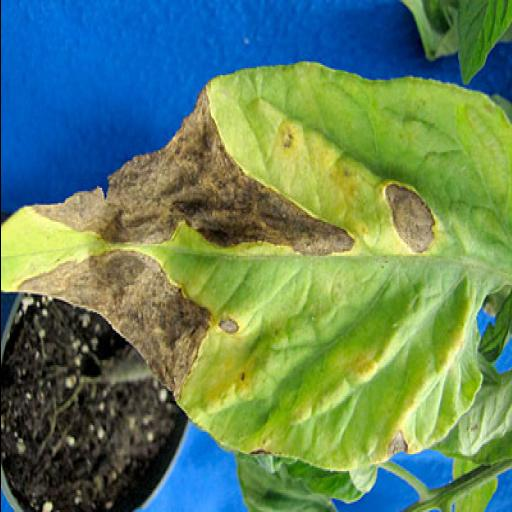disease_tomato: (0, 61, 510, 481)
